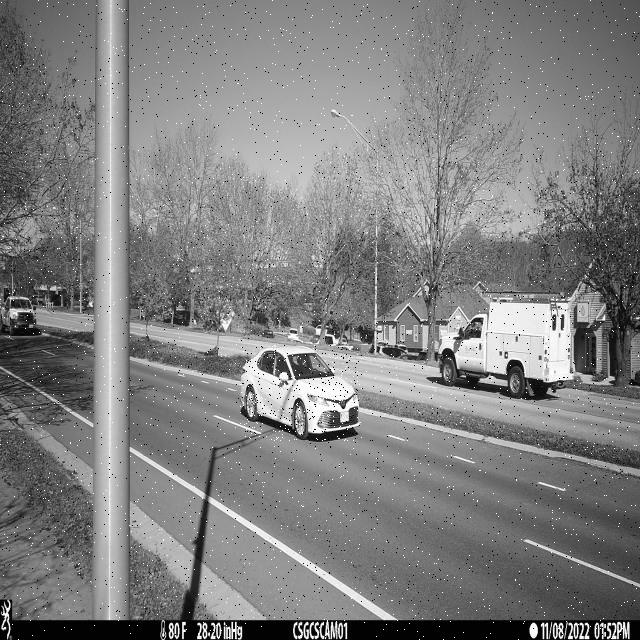Pickup- Utility: (434, 291, 572, 399)
Sedan: (240, 345, 360, 441)
